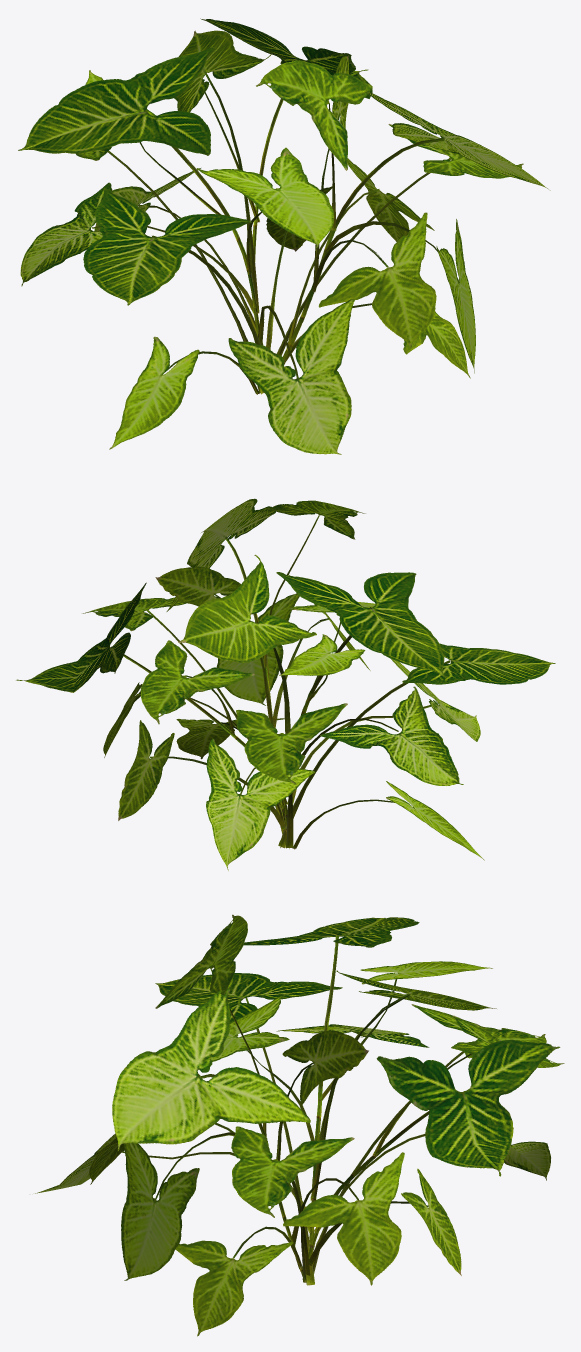
File: Q_Plant_Arrow_3.fbx
The picture shows the model from 3 angles, top to bottom: view 1: azimuth 30°, elevation 25°; view 2: azimuth 150°, elevation 25°; view 3: azimuth 270°, elevation 25°; orthographic projection. The views are drawn at different scales.
Visible parts, largest first — view 1: _c569_Var5_LOD2; view 2: _c569_Var5_LOD2; view 3: _c569_Var5_LOD2.
Part boxes in pixels (x1=…): _c569_Var5_LOD2: x1=18, y1=18, x2=550, y2=454; _c569_Var5_LOD2: x1=16, y1=498, x2=555, y2=870; _c569_Var5_LOD2: x1=35, y1=914, x2=564, y2=1336.
Size of the model in its own units: 30.49 by 22.2 by 31.26.
Materials: 1 (1 with a texture image).
